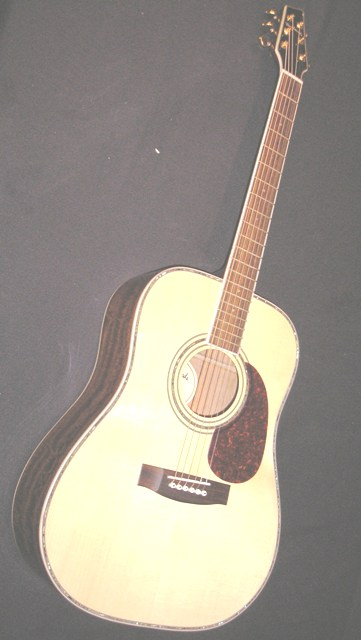guitar: (11, 6, 313, 635)
